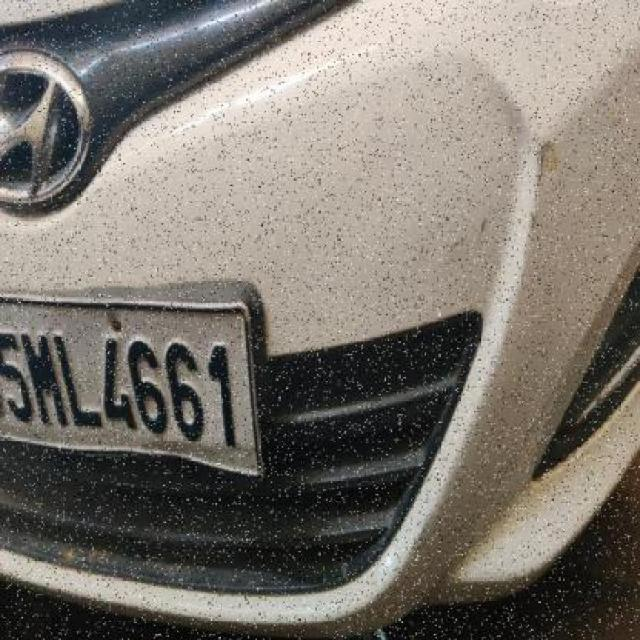front-bumper-dent: (264, 0, 640, 630)
